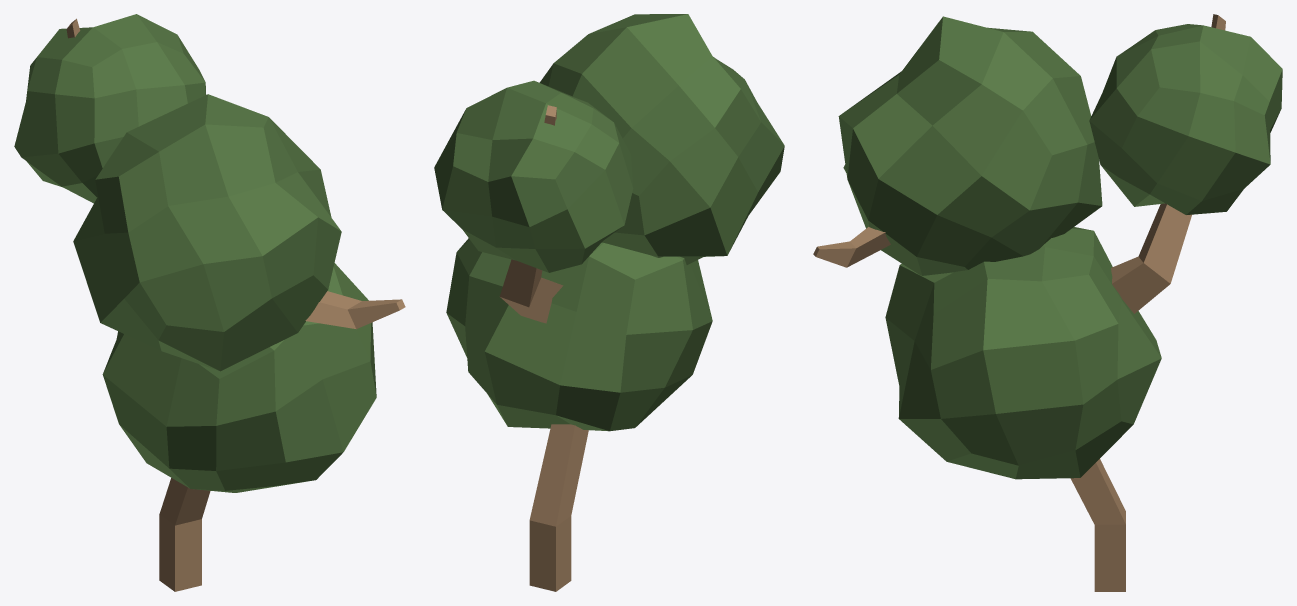
File: Bush 3.2.fbx
3 renders of one model, left to right at view 1: azimuth 30°, elevation 25°; view 2: azimuth 150°, elevation 25°; view 3: azimuth 270°, elevation 25°, orthographic. The views are drawn at different scales.
Parts seen in each view (by area): view 1: Cube.004; view 2: Cube.004; view 3: Cube.004.
Boxes of the visible parts, x1,y1,x2,y2 form: Cube.004: (14, 14, 405, 591); Cube.004: (434, 14, 784, 591); Cube.004: (813, 14, 1282, 591).
Size of the model in its own units: 44.88 by 84.83 by 66.22.
